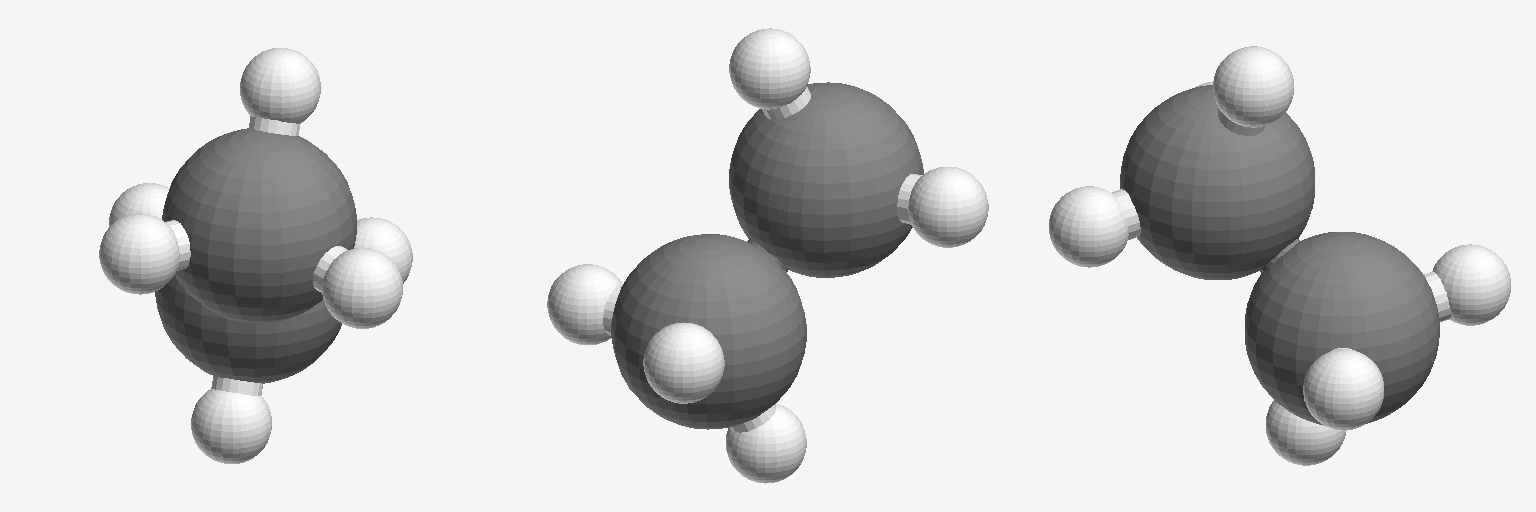
Rendered from methane3D.obj.
3 views of the same model, side by side, from view 1: azimuth 30°, elevation 25°; view 2: azimuth 150°, elevation 25°; view 3: azimuth 270°, elevation 25° (orthographic).
Visible parts, largest first — view 1: Carbon_ball_SurfSphere, Hydrogen_ball_SurfSphere.001, Hydrogen_sticks_cylinder; view 2: Carbon_ball_SurfSphere, Hydrogen_ball_SurfSphere.001, Hydrogen_sticks_cylinder; view 3: Carbon_ball_SurfSphere, Hydrogen_ball_SurfSphere.001, Hydrogen_sticks_cylinder.
Boxes of the visible parts, x1=… form: Carbon_ball_SurfSphere: x1=155, y1=128, x2=356, y2=383; Hydrogen_ball_SurfSphere.001: x1=99, y1=48, x2=412, y2=463; Hydrogen_sticks_cylinder: x1=166, y1=116, x2=347, y2=395; Carbon_ball_SurfSphere: x1=611, y1=82, x2=923, y2=429; Hydrogen_ball_SurfSphere.001: x1=547, y1=28, x2=988, y2=483; Hydrogen_sticks_cylinder: x1=603, y1=87, x2=922, y2=432; Carbon_ball_SurfSphere: x1=1120, y1=85, x2=1439, y2=425; Hydrogen_ball_SurfSphere.001: x1=1049, y1=46, x2=1510, y2=465; Hydrogen_sticks_cylinder: x1=1112, y1=109, x2=1450, y2=351.
Size of the model in its own units: 3.33 by 3.67 by 3.64.